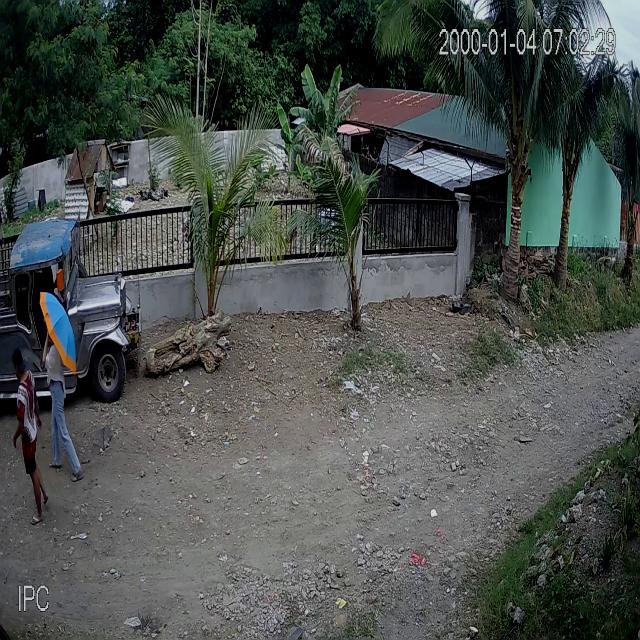walking: (38, 287, 84, 487), (11, 346, 50, 530)
